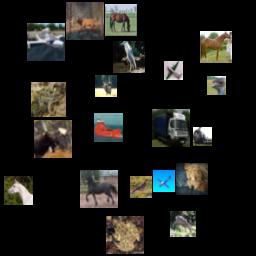airplane: (27, 23, 65, 61), (153, 170, 175, 192), (193, 127, 212, 146), (164, 61, 183, 80)
bird: (113, 41, 145, 73), (130, 176, 152, 198), (207, 76, 226, 95)
deer: (66, 2, 104, 40), (34, 120, 72, 158), (170, 211, 196, 237), (95, 75, 117, 97)
dog: (176, 163, 208, 195)
frog: (106, 216, 144, 254), (31, 82, 66, 117)
ship: (94, 113, 123, 142)
truck: (152, 109, 190, 147)
